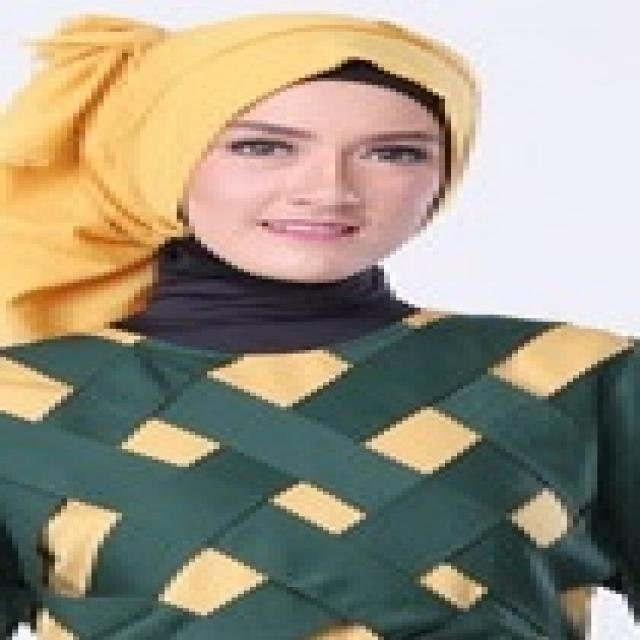head: (121, 8, 492, 291)
